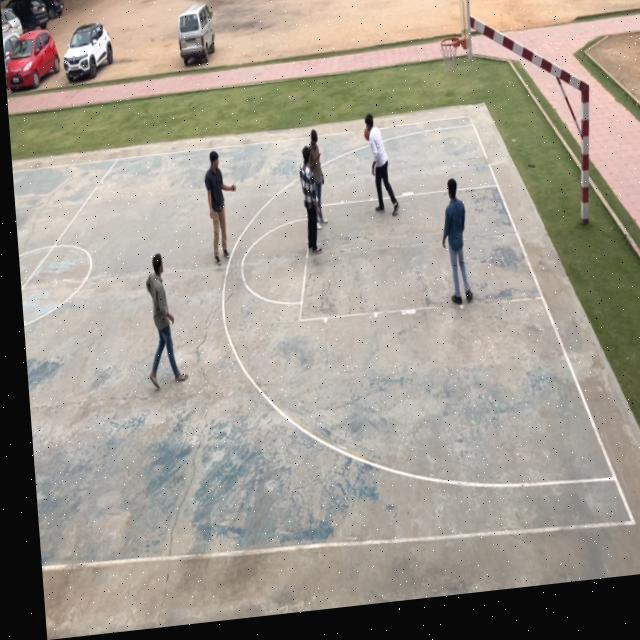basketball: (363, 125, 371, 143)
hoop: (439, 33, 464, 74)
